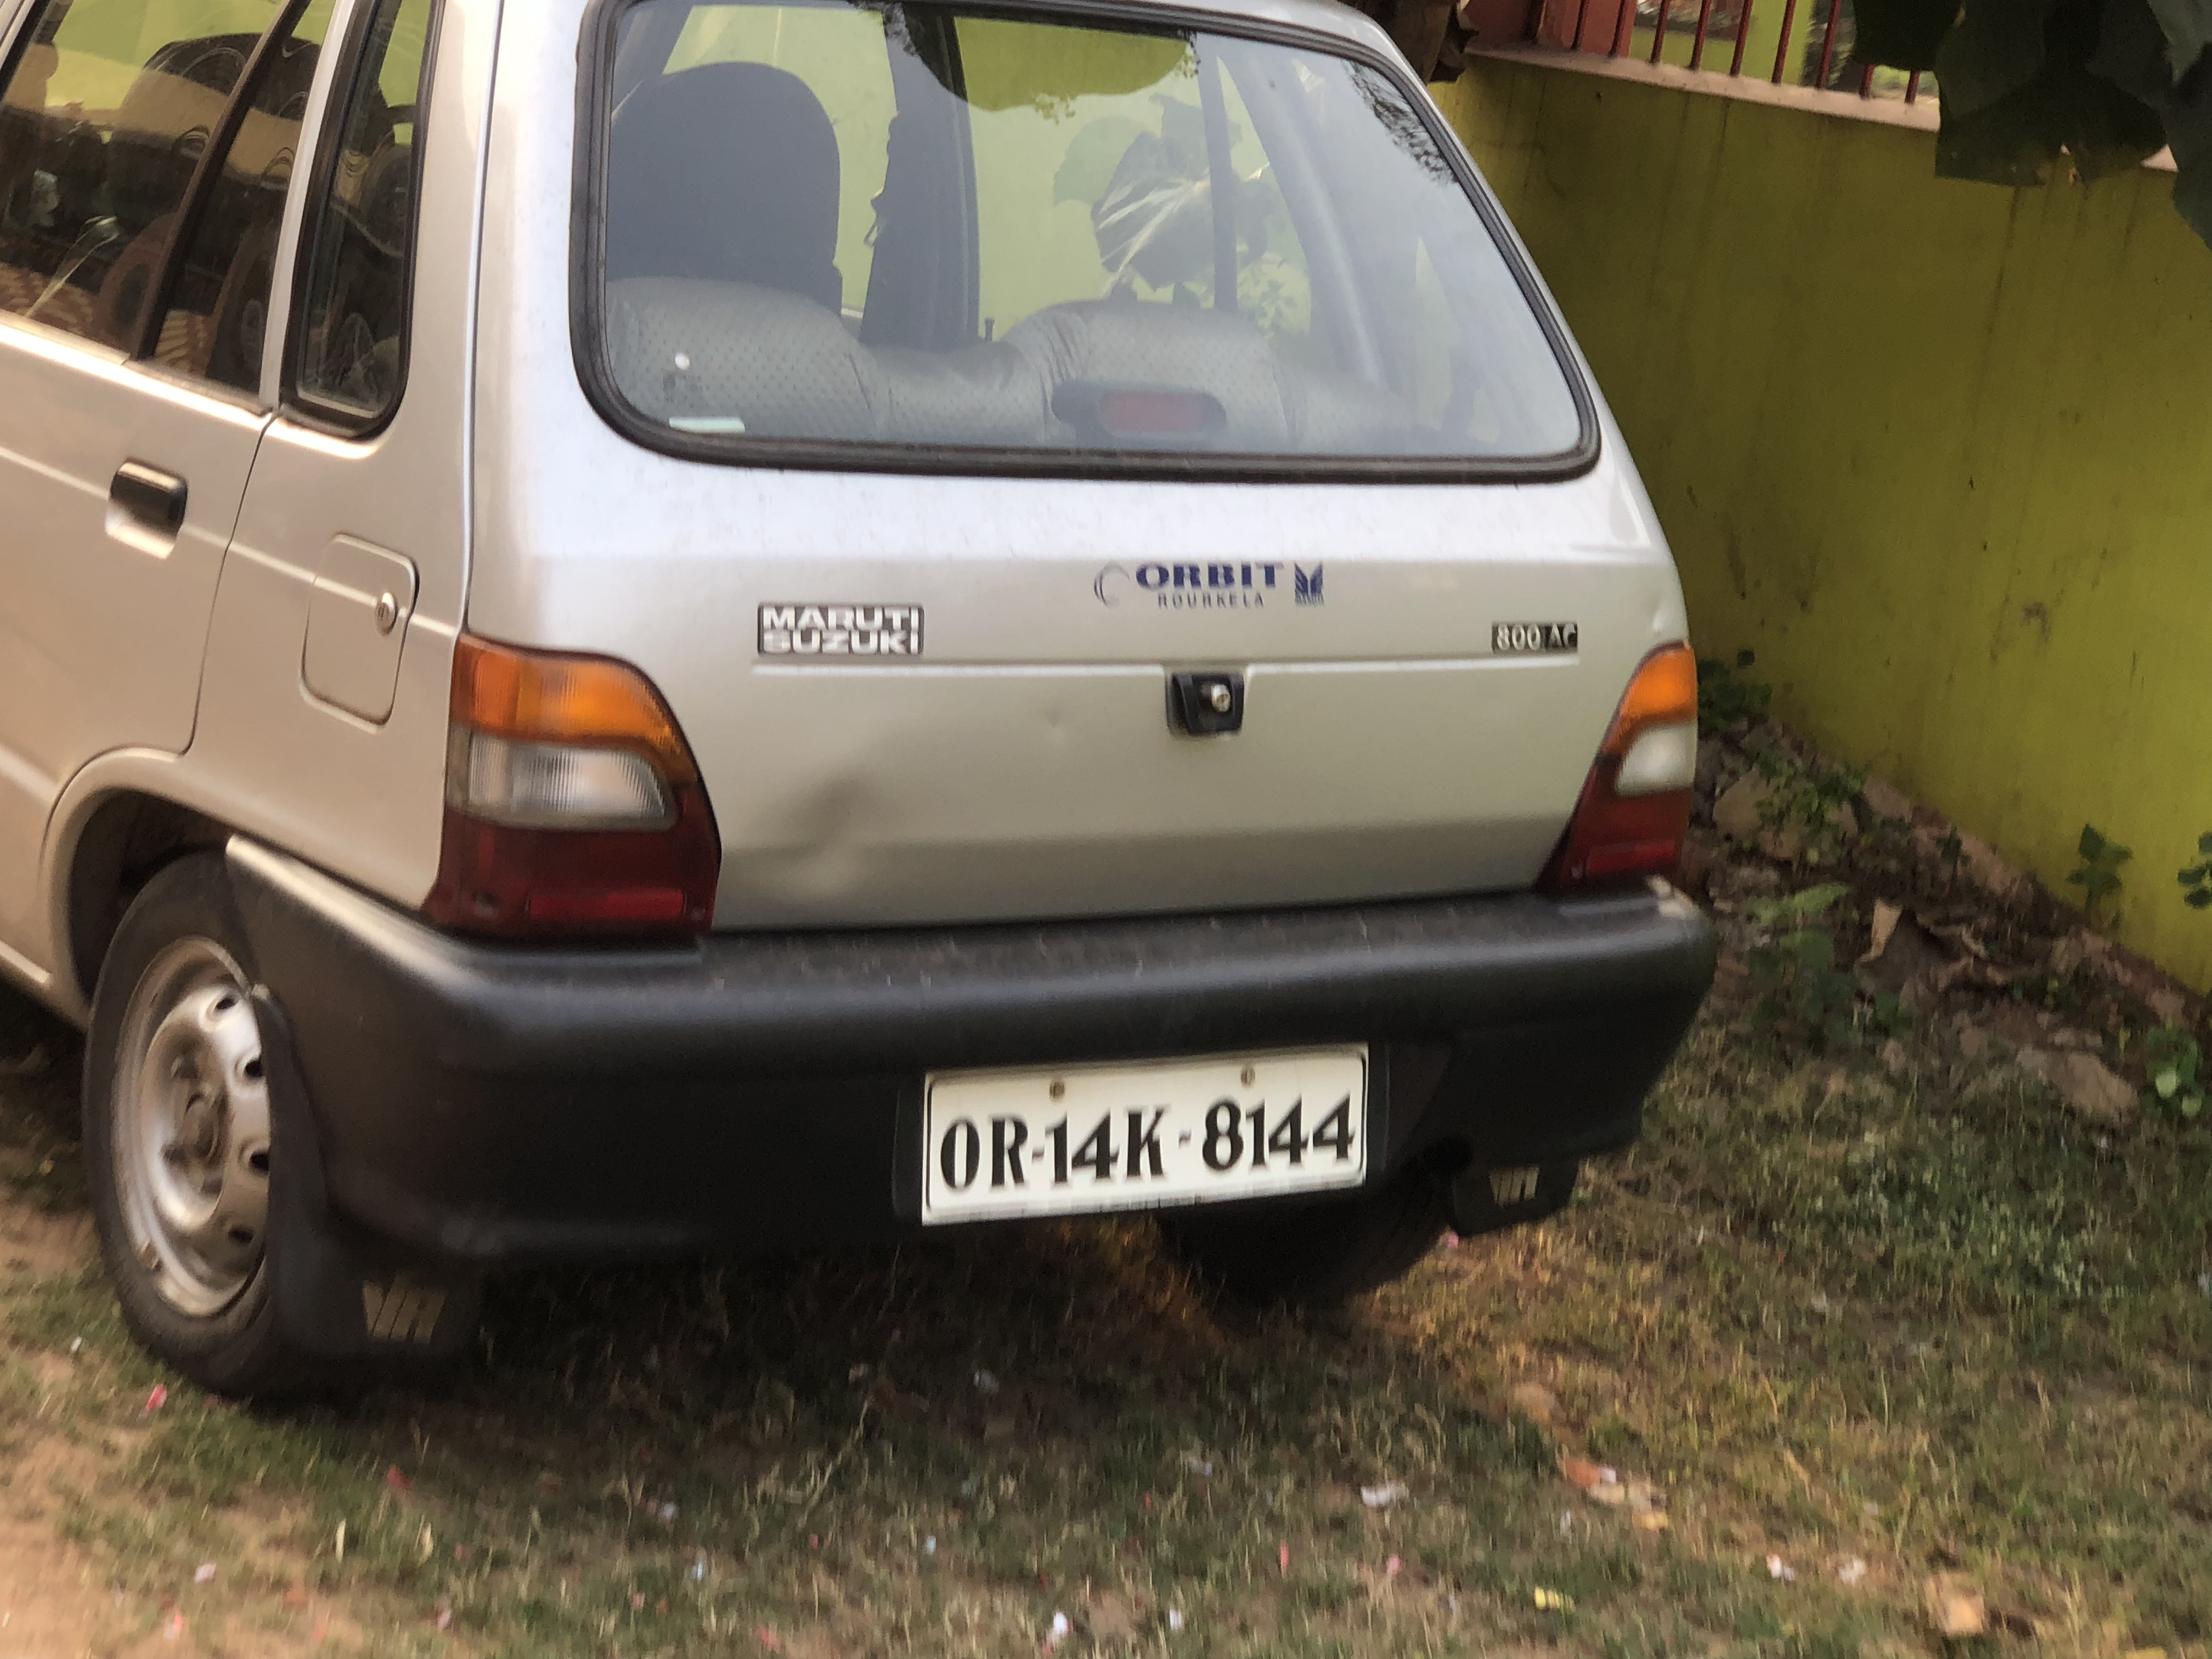licenseplate: (896, 1039, 1381, 1211)
